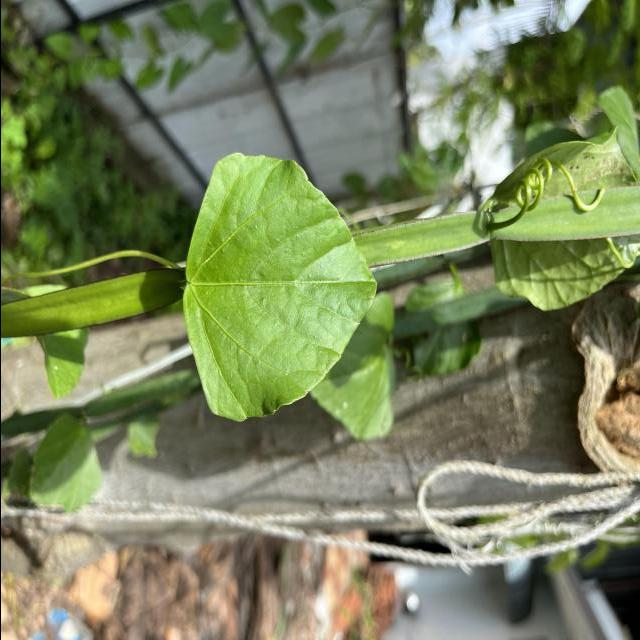Cissus quadrangularis: (178, 151, 382, 427)
